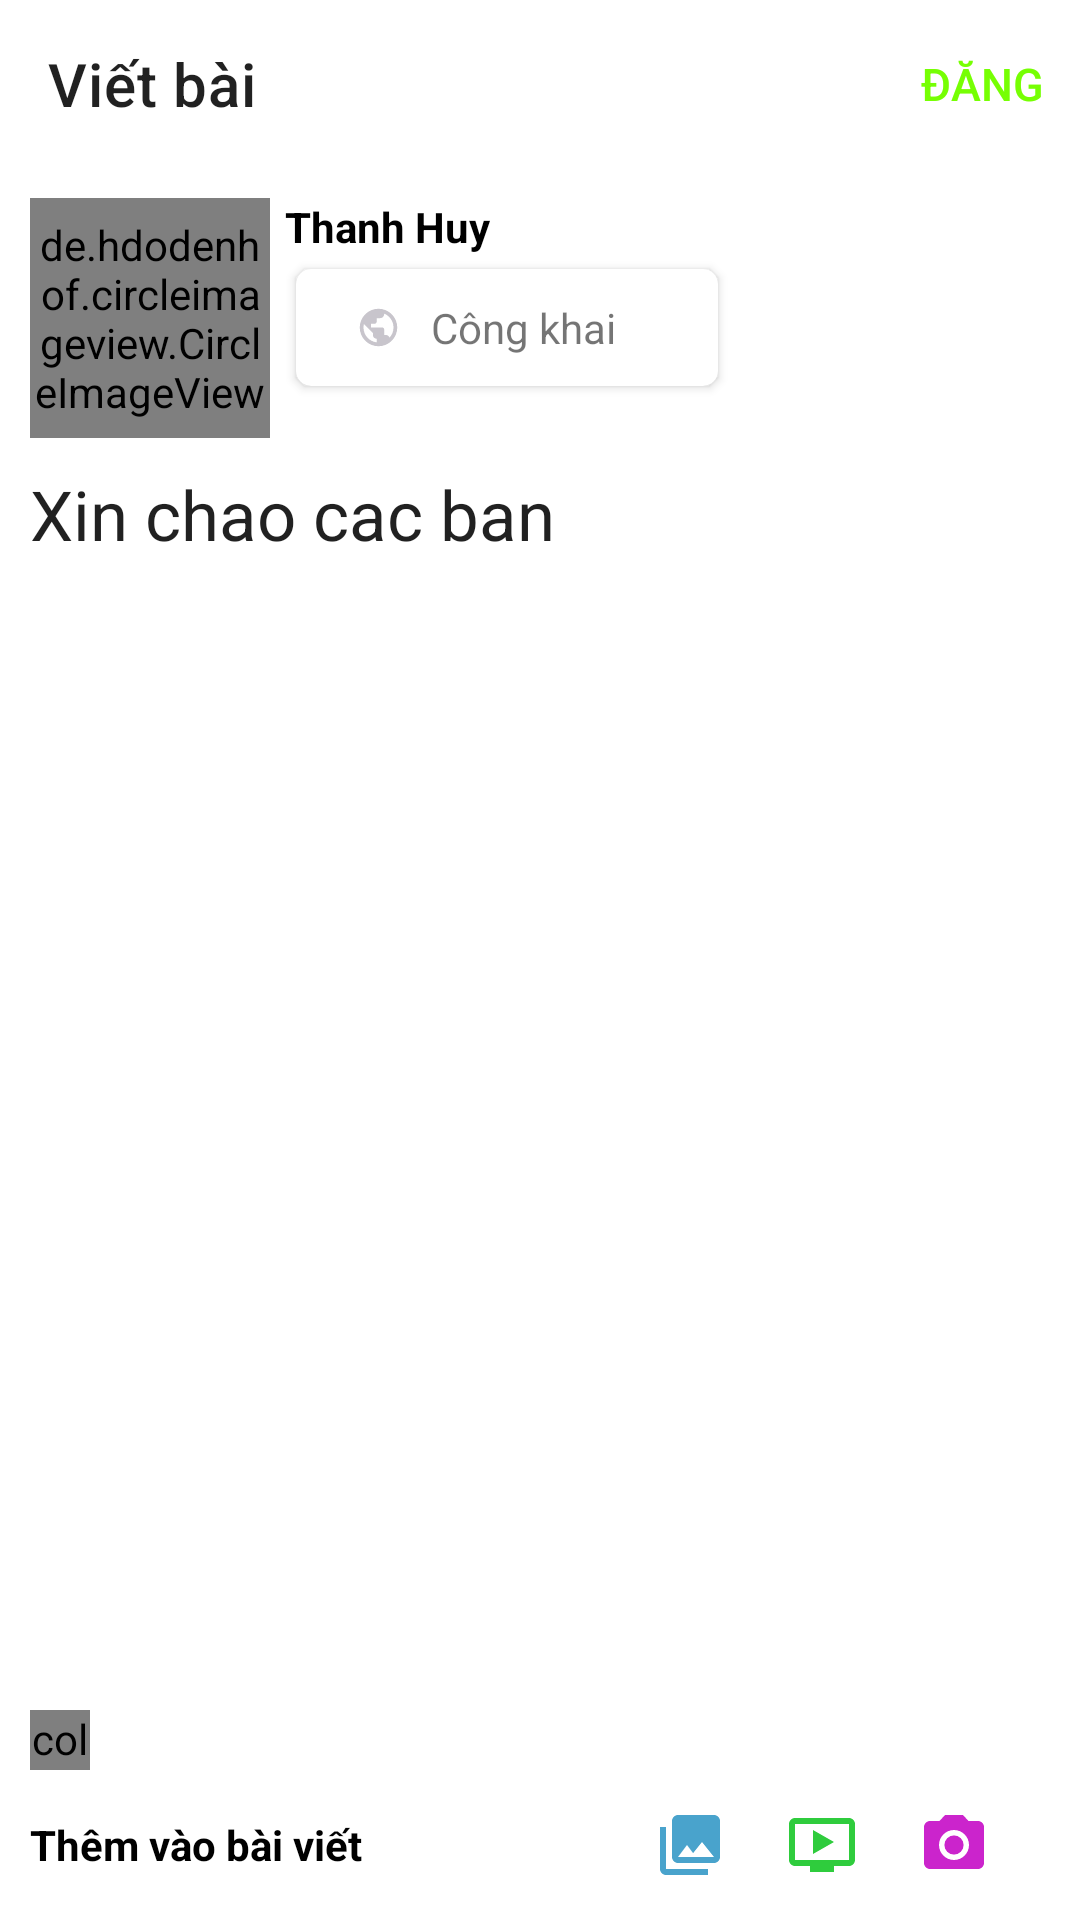

Point at icon controls on the screen. Image size 1080 × 1920, points as [x,y].
camera: [954,1842]
collections: [690,1845]
ondemand video: [822,1845]
public: [378,327]
